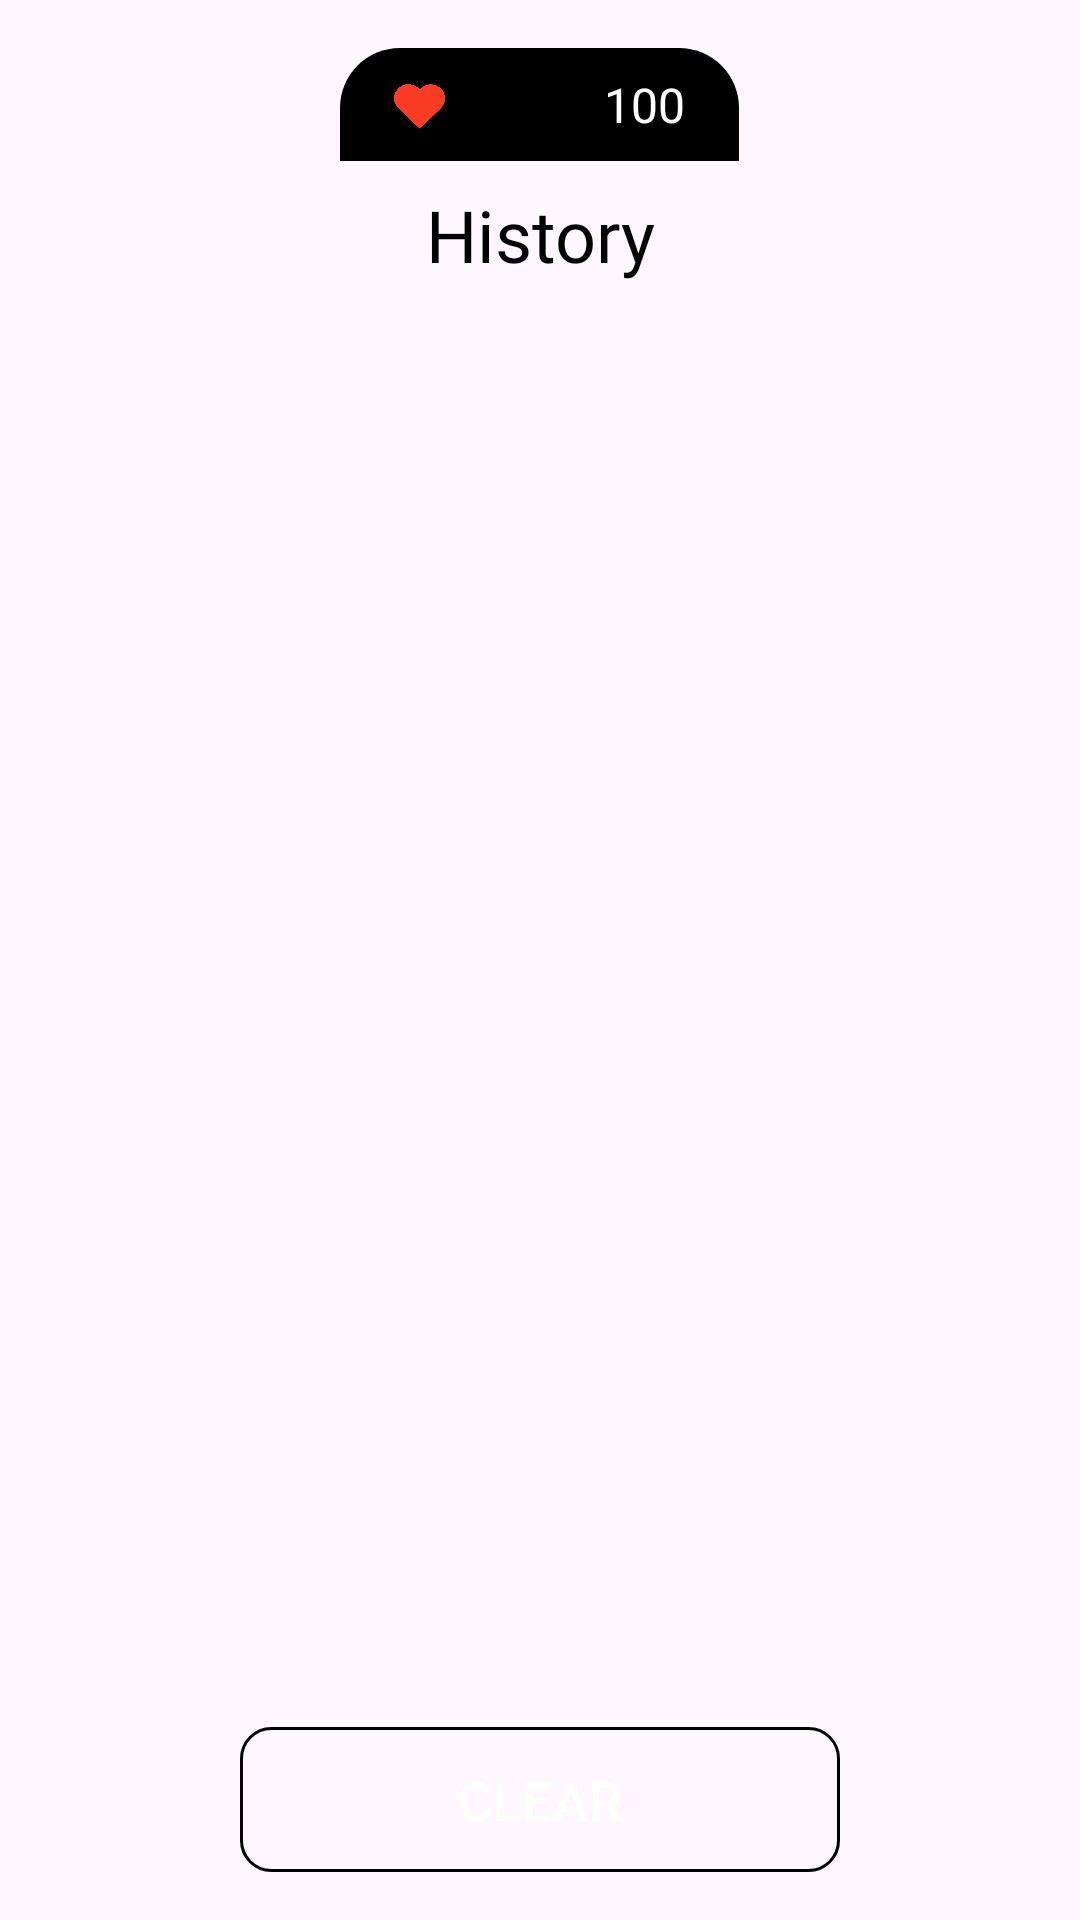

Where to tap for icons on this 1080 × 1920 app screen, as [x,y]:
Heart Icon: [419,106]
